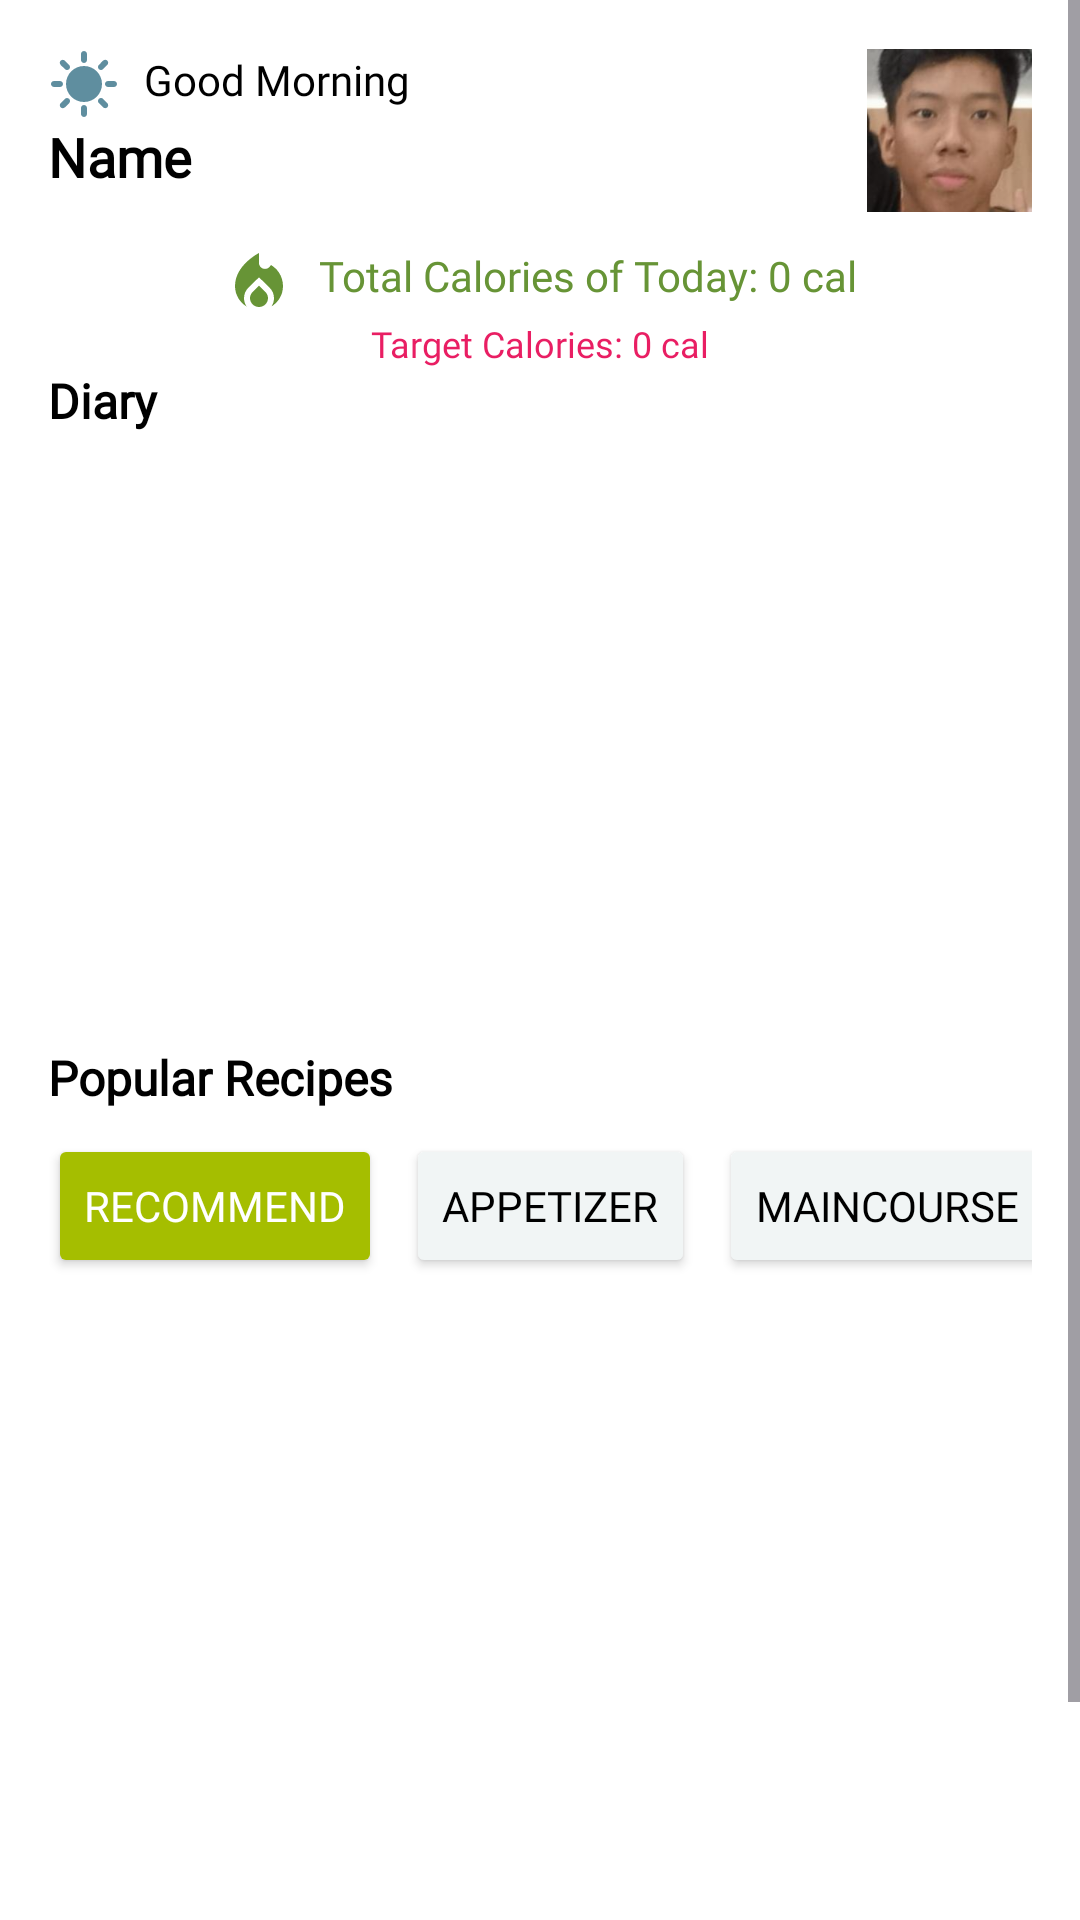

Icons on this 1080 x 1920 Android screen, each with the point to tap as [x,y]:
profile sementara: [949,130]
